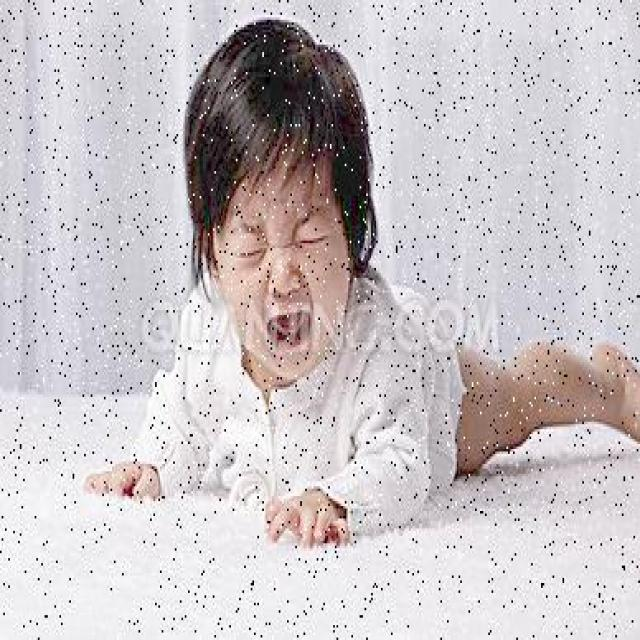fall: (128, 62, 626, 494)
